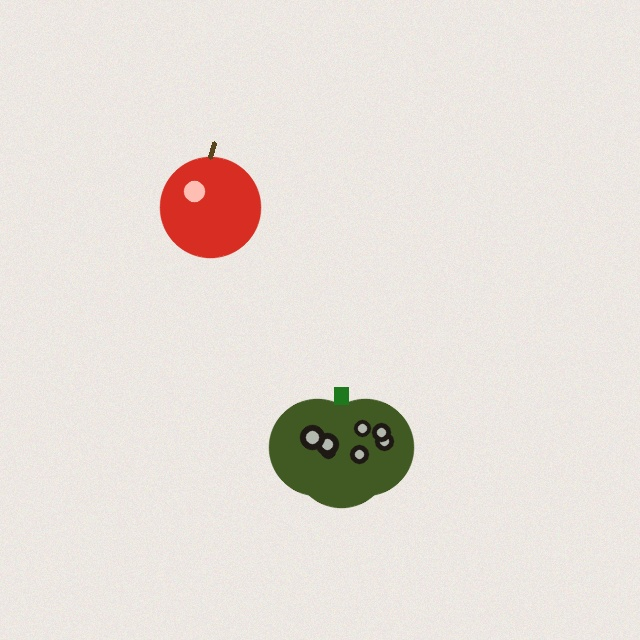Fresh apple: (160, 143, 260, 257)
Rotten bell pepper: (269, 387, 413, 507)
